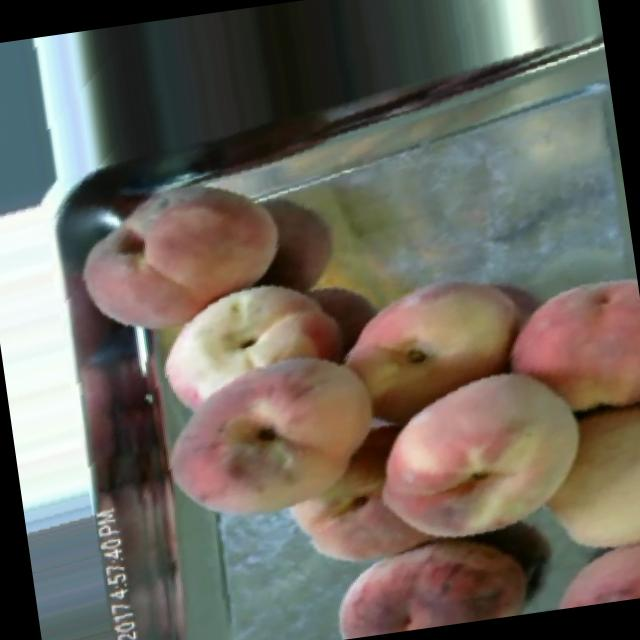Fruit: (354, 340, 616, 557), (145, 327, 400, 536), (60, 158, 306, 356), (320, 254, 550, 448), (480, 254, 640, 436), (319, 525, 557, 640), (513, 534, 640, 615)
